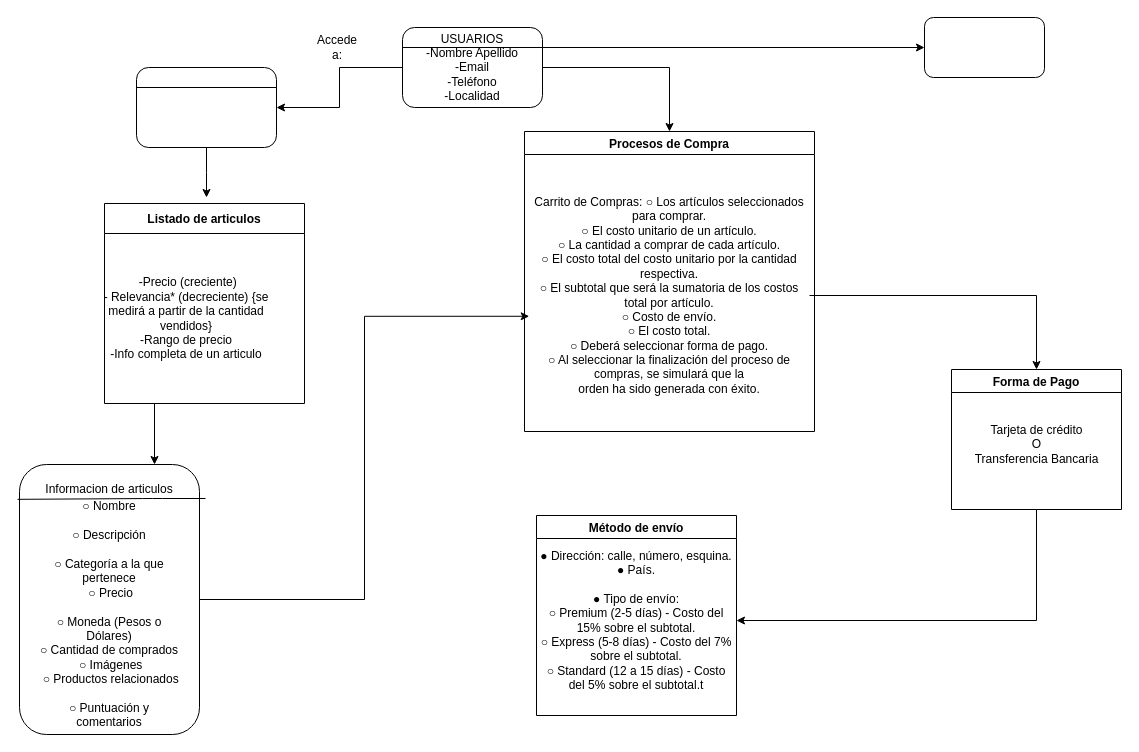
Image size: 1139x752. Some labels were removed from this diagram. Here are the shapes that lost their labels. From the top down, the centre of each, then its label:
point (984, 47): Compradores Vendedores
point (206, 107): PRODUCTOS -Articulos-
